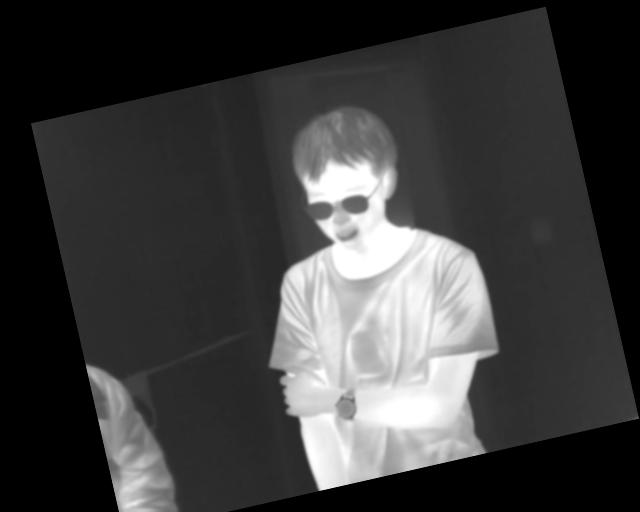face: (280, 95, 417, 257)
